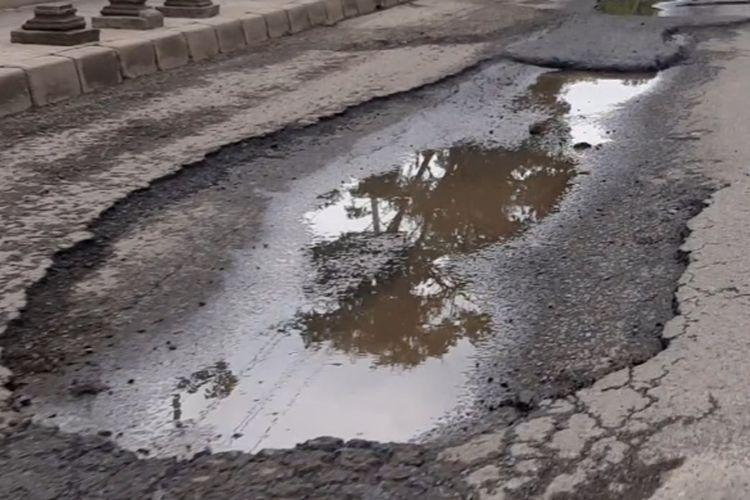Pothole: (0, 49, 750, 454)
